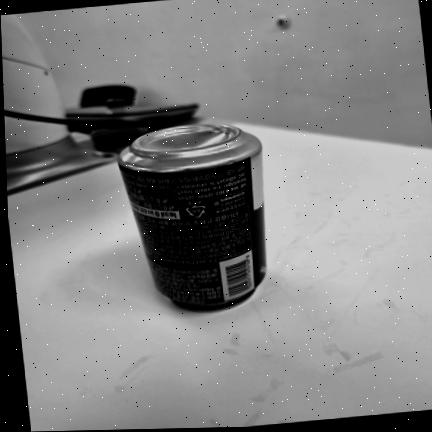can_pepsi_zero: (118, 124, 266, 309)
